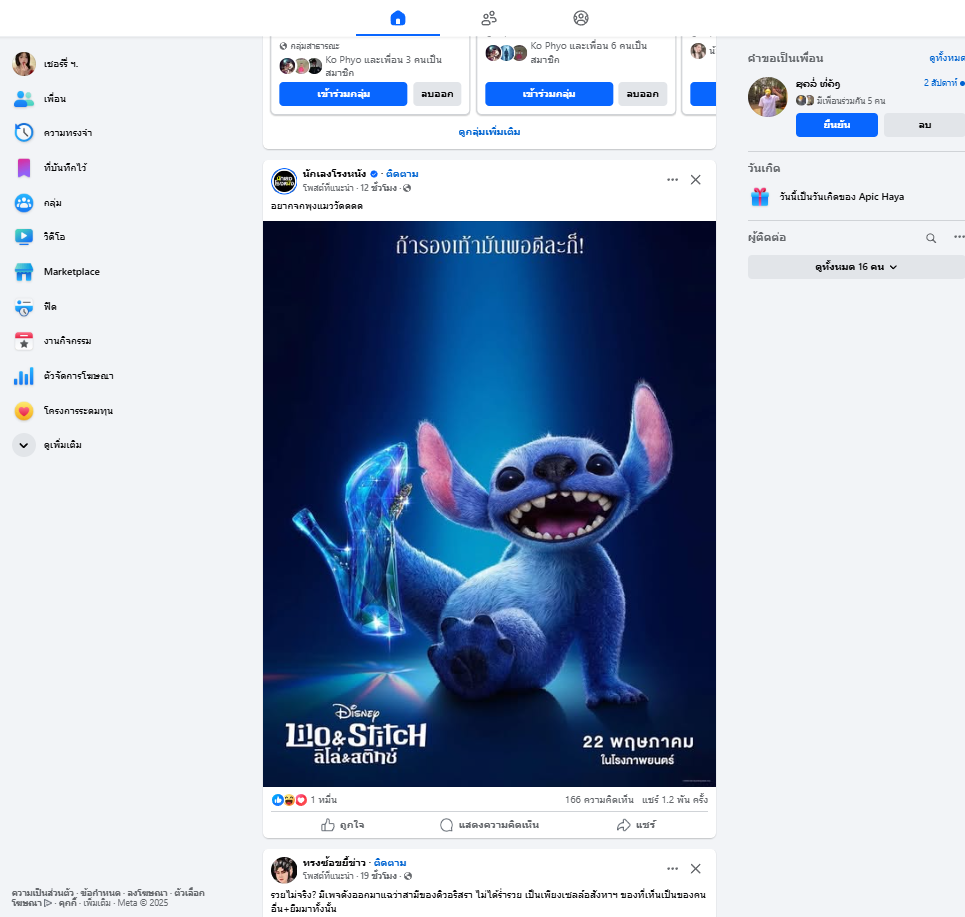topic: (262, 154, 717, 842), (261, 850, 715, 917)
